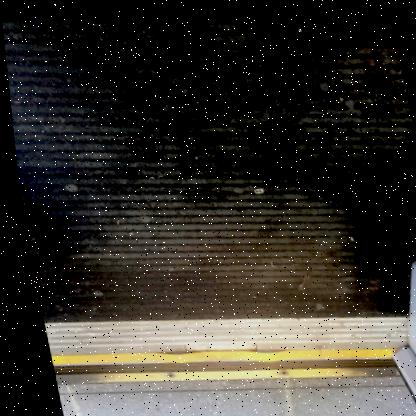Metal: (251, 183, 259, 188)
